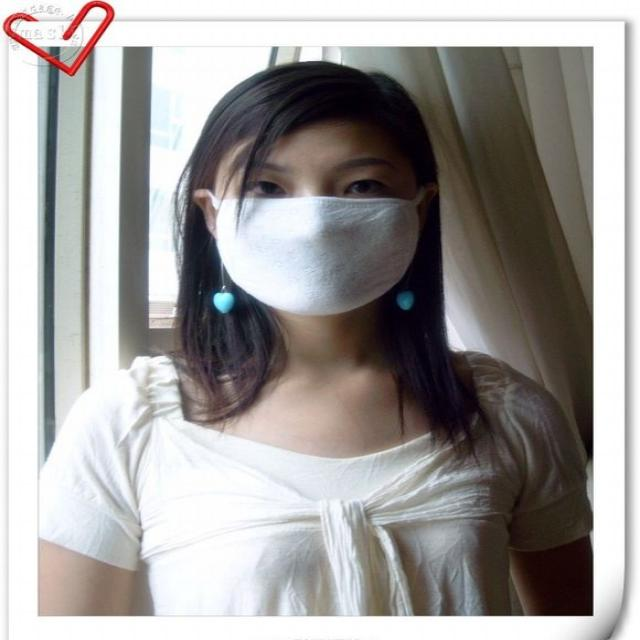mask: (216, 110, 417, 326)
